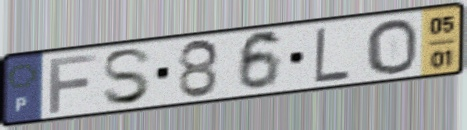6: (233, 28, 287, 95)
8: (176, 37, 223, 101)
F: (47, 51, 100, 115)
L: (312, 25, 353, 85)
O: (364, 17, 420, 76)
S: (99, 46, 155, 108)
